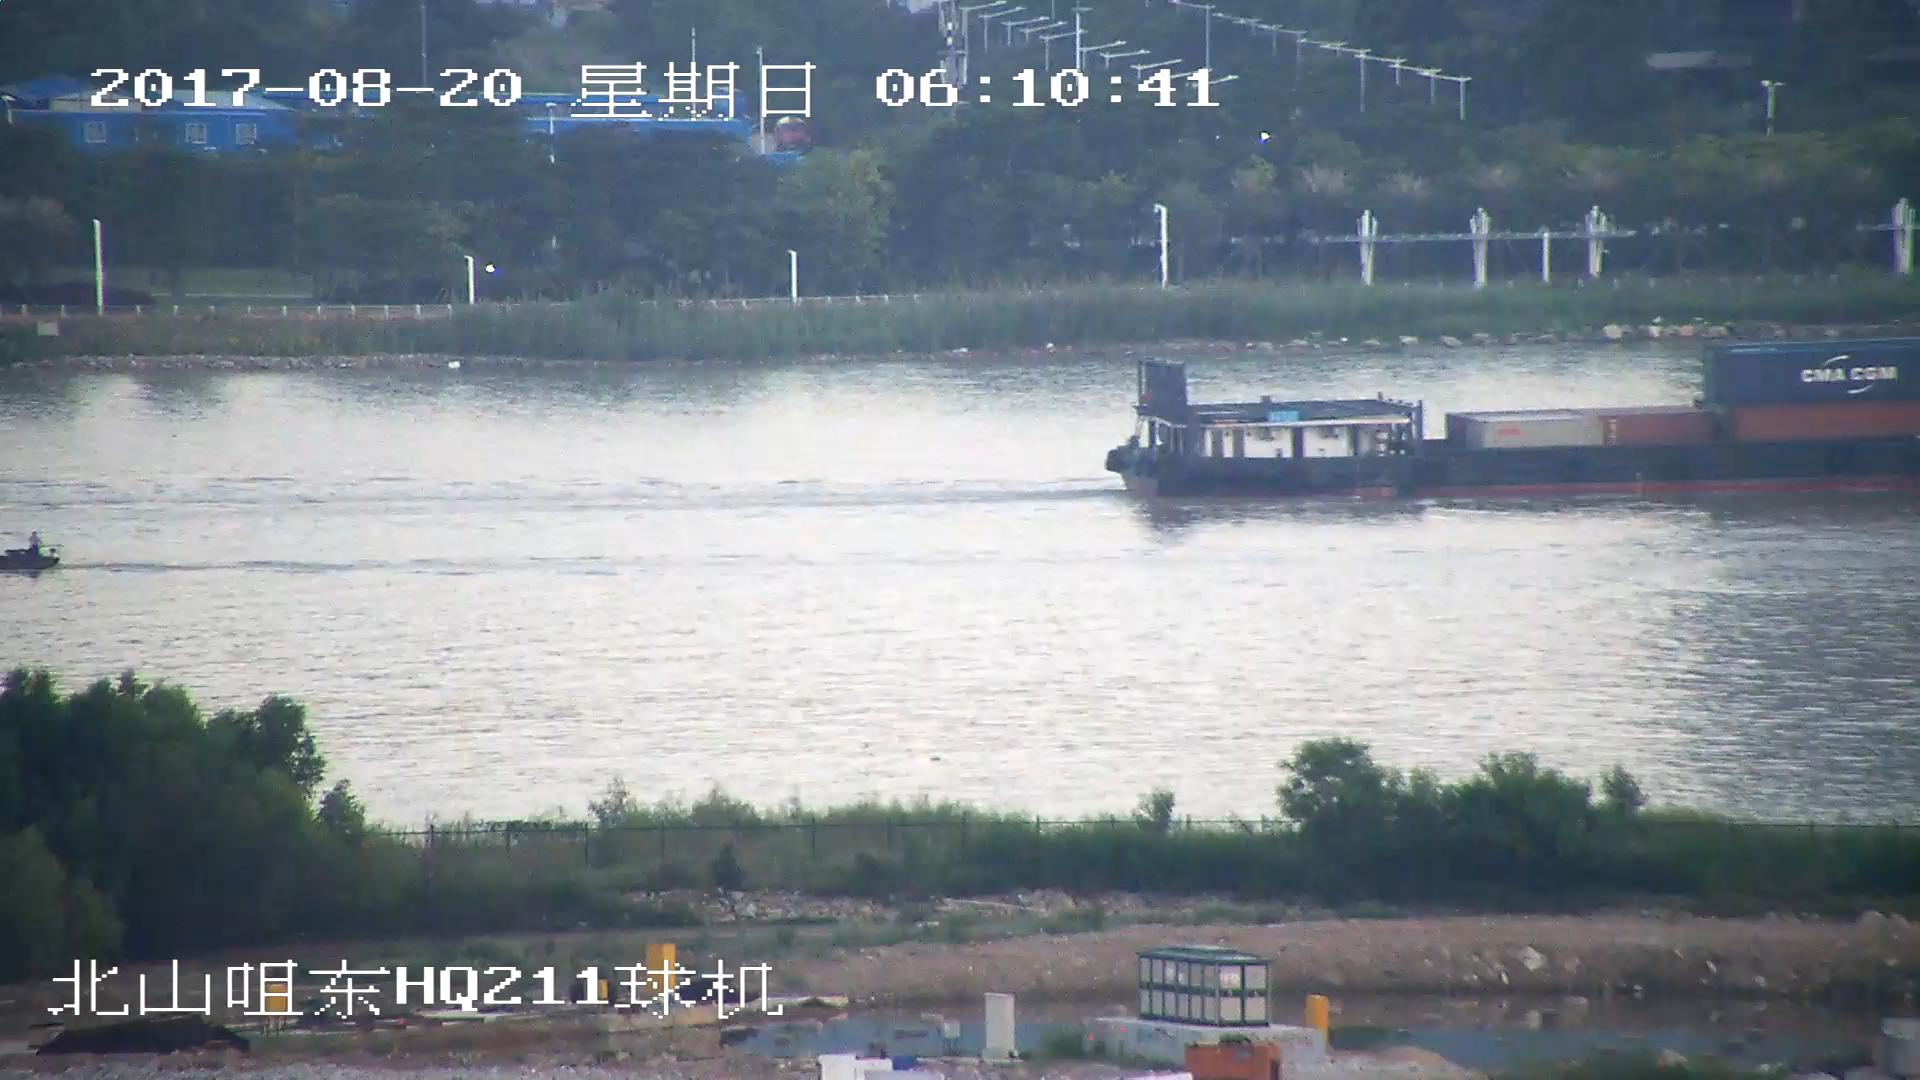container ship: (1093, 343, 1920, 497)
fishing boat: (1, 532, 59, 578)
